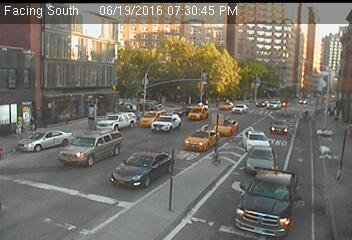neg: (75, 126, 98, 156), (208, 149, 229, 177), (274, 61, 293, 86), (235, 40, 254, 65), (134, 49, 153, 74), (49, 161, 67, 186), (246, 183, 264, 207), (295, 104, 312, 127), (136, 163, 153, 186), (264, 131, 280, 152), (291, 188, 307, 209), (76, 88, 92, 108), (93, 181, 109, 201), (203, 63, 218, 83), (82, 54, 97, 74), (165, 193, 179, 212), (129, 108, 142, 126), (203, 100, 216, 118), (227, 120, 240, 137), (323, 139, 335, 154)
